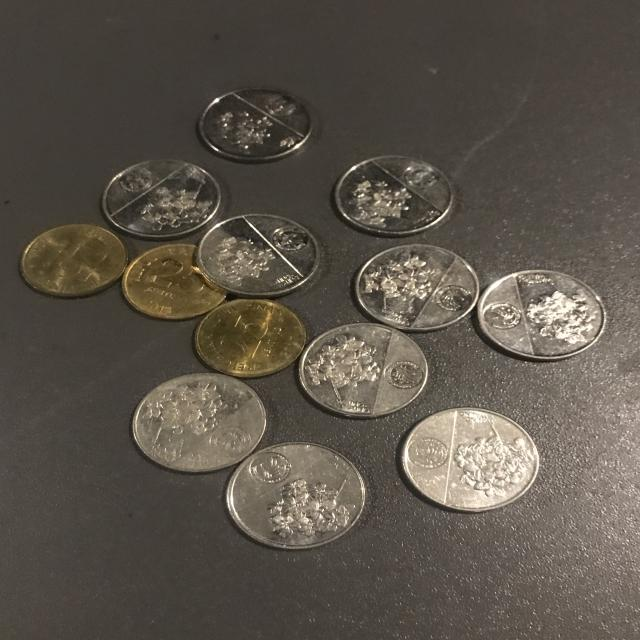1_New_Back: (257, 463, 362, 548), (450, 421, 540, 504), (302, 333, 389, 409), (371, 257, 464, 324)
25Cent_Old_Front: (205, 307, 285, 368), (137, 257, 205, 308)
